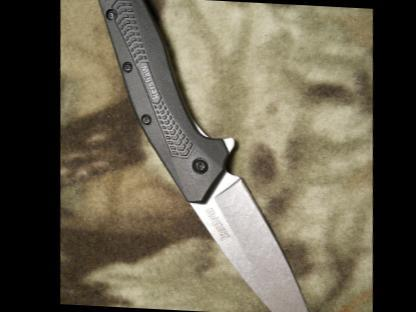knife: (171, 163, 330, 311)
